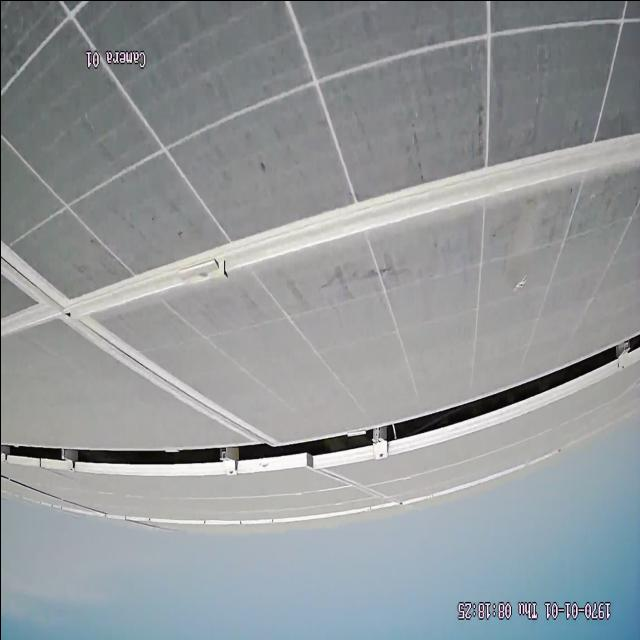interior panel: (5, 135, 638, 441)
outher panel: (1, 334, 637, 478)
